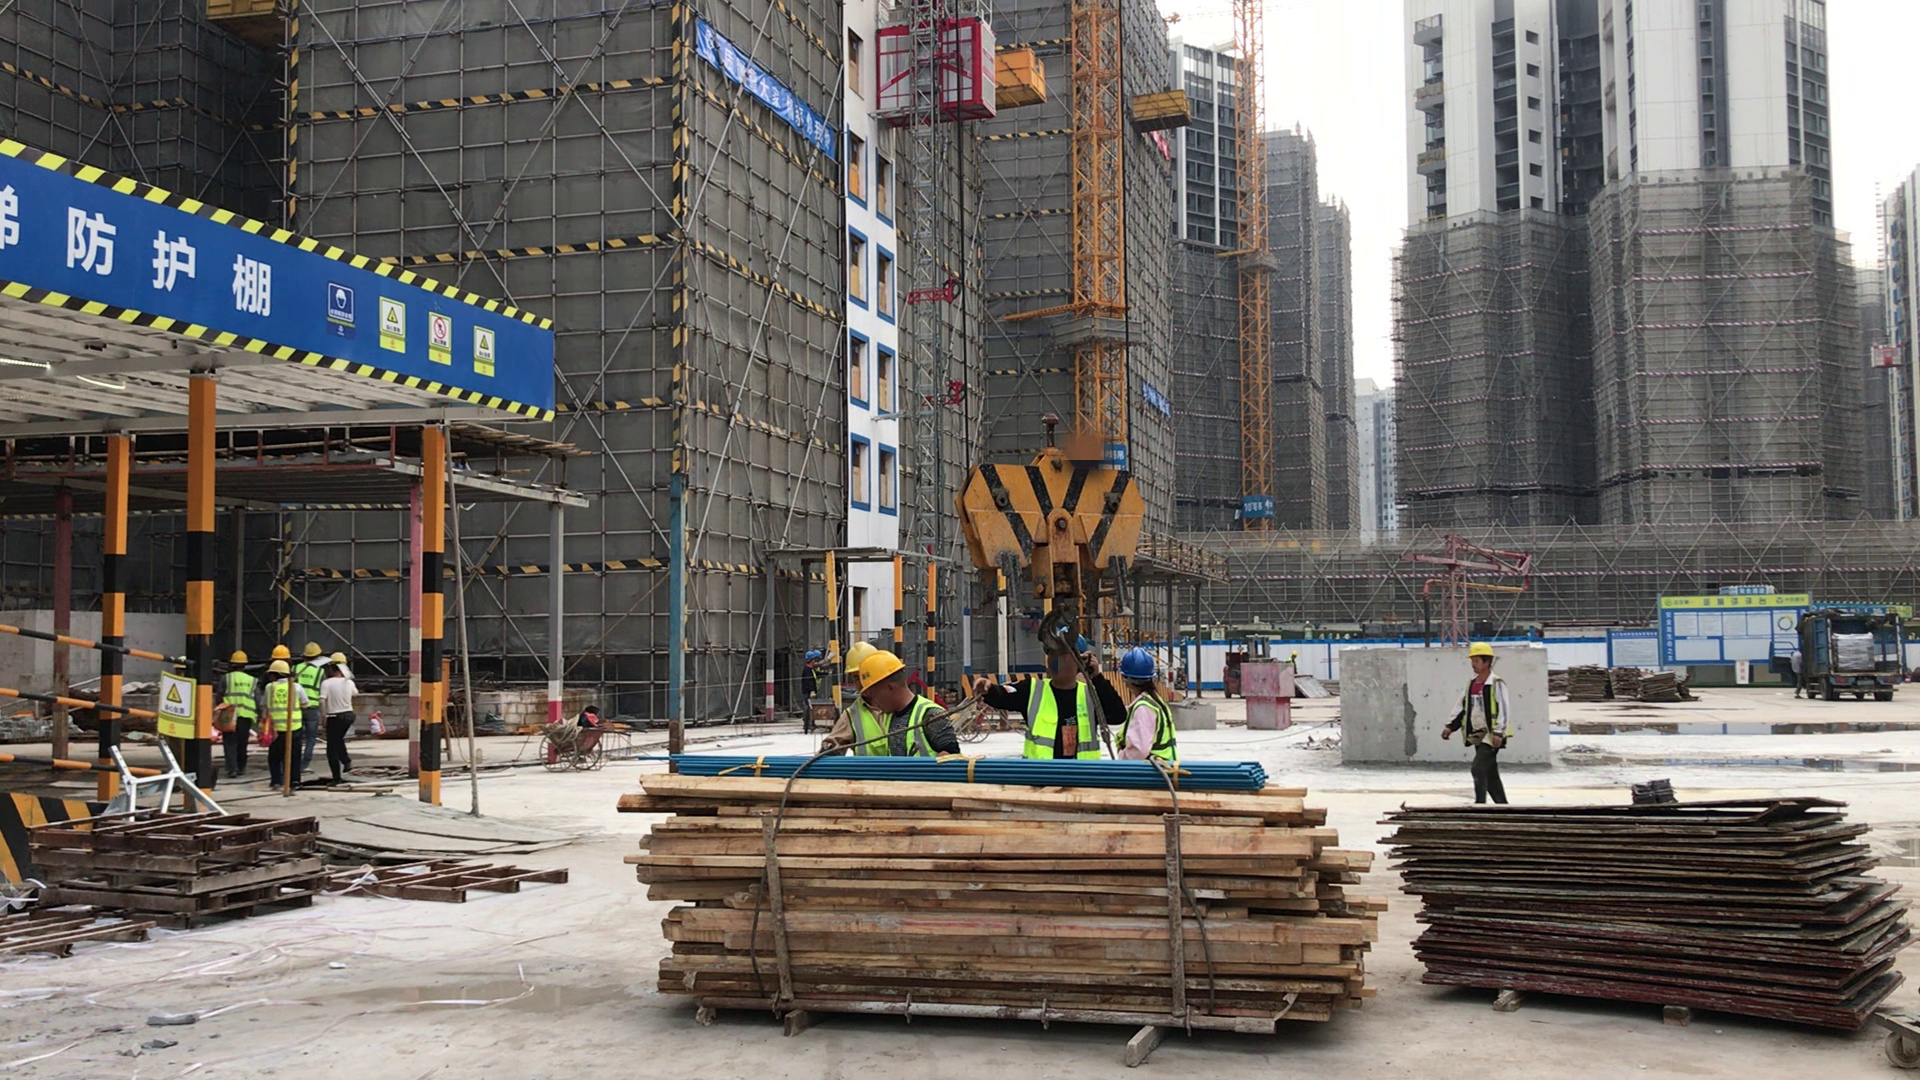board: (1382, 798, 1906, 1026)
handcart: (536, 716, 626, 778), (946, 691, 993, 743), (798, 694, 841, 731)
helmet: (858, 649, 906, 689), (1119, 647, 1161, 684), (840, 641, 874, 671), (1467, 640, 1494, 661), (267, 660, 293, 674), (299, 641, 325, 655), (229, 650, 248, 667), (331, 650, 348, 664), (271, 644, 289, 656), (1286, 649, 1300, 661)
hook: (958, 413, 1152, 647)
person: (836, 642, 965, 753), (1011, 634, 1122, 762), (1450, 641, 1518, 805), (1109, 644, 1180, 769), (263, 662, 305, 786), (225, 646, 260, 777), (317, 660, 352, 780), (798, 646, 832, 693)
slogan: (310, 265, 504, 397), (693, 21, 841, 162), (151, 664, 196, 747), (1143, 381, 1174, 422), (1240, 496, 1276, 519)
vest: (1023, 675, 1100, 762), (846, 702, 941, 751), (1125, 693, 1179, 761), (265, 682, 305, 732), (227, 670, 257, 720), (296, 661, 320, 704)
wood: (641, 766, 1383, 1032)
